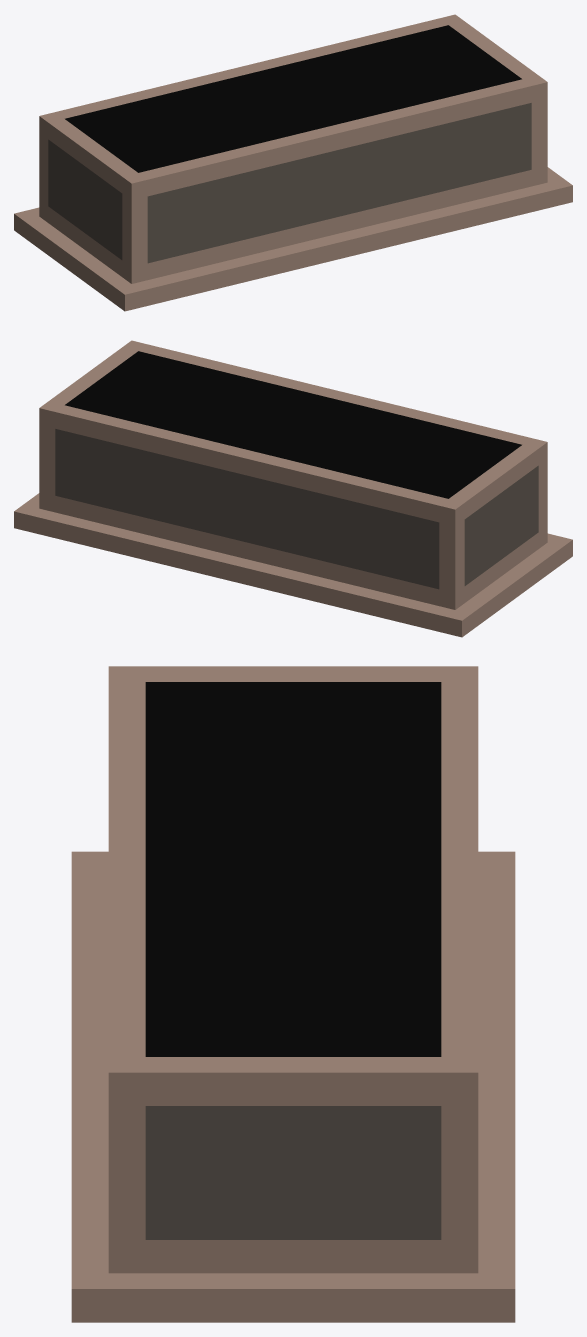
Rendered from tomb_a_a.obj.
3 views of the same model, one above another, from view 1: azimuth 30°, elevation 25°; view 2: azimuth 150°, elevation 25°; view 3: azimuth 270°, elevation 25° (orthographic). The views are drawn at different scales.
Size of the model in its own units: 2.8 by 0.7 by 1.2.
1 material, 1 textured.
